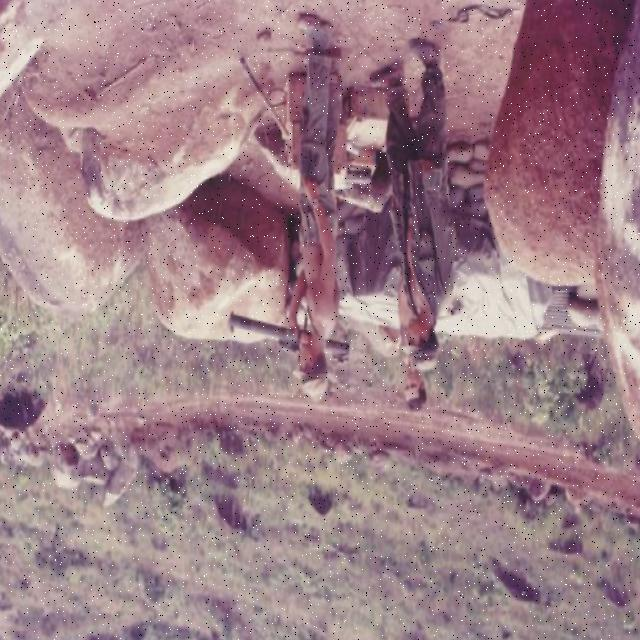bazooka: (224, 307, 355, 366)
